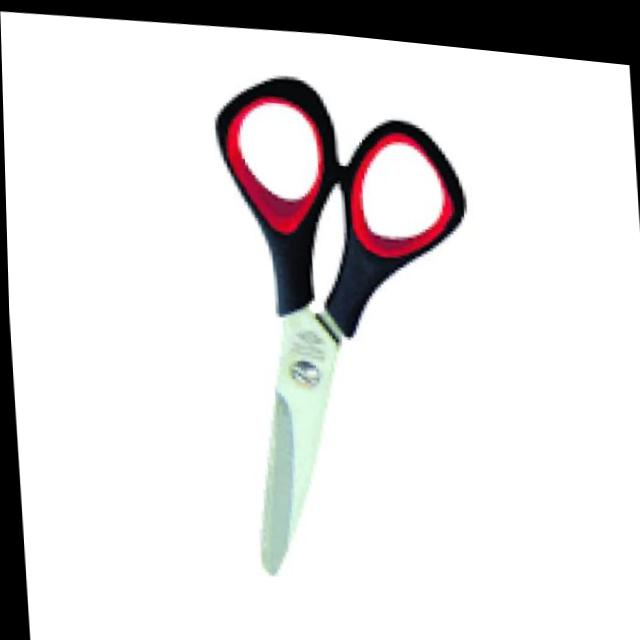scissor: (205, 51, 491, 591)
